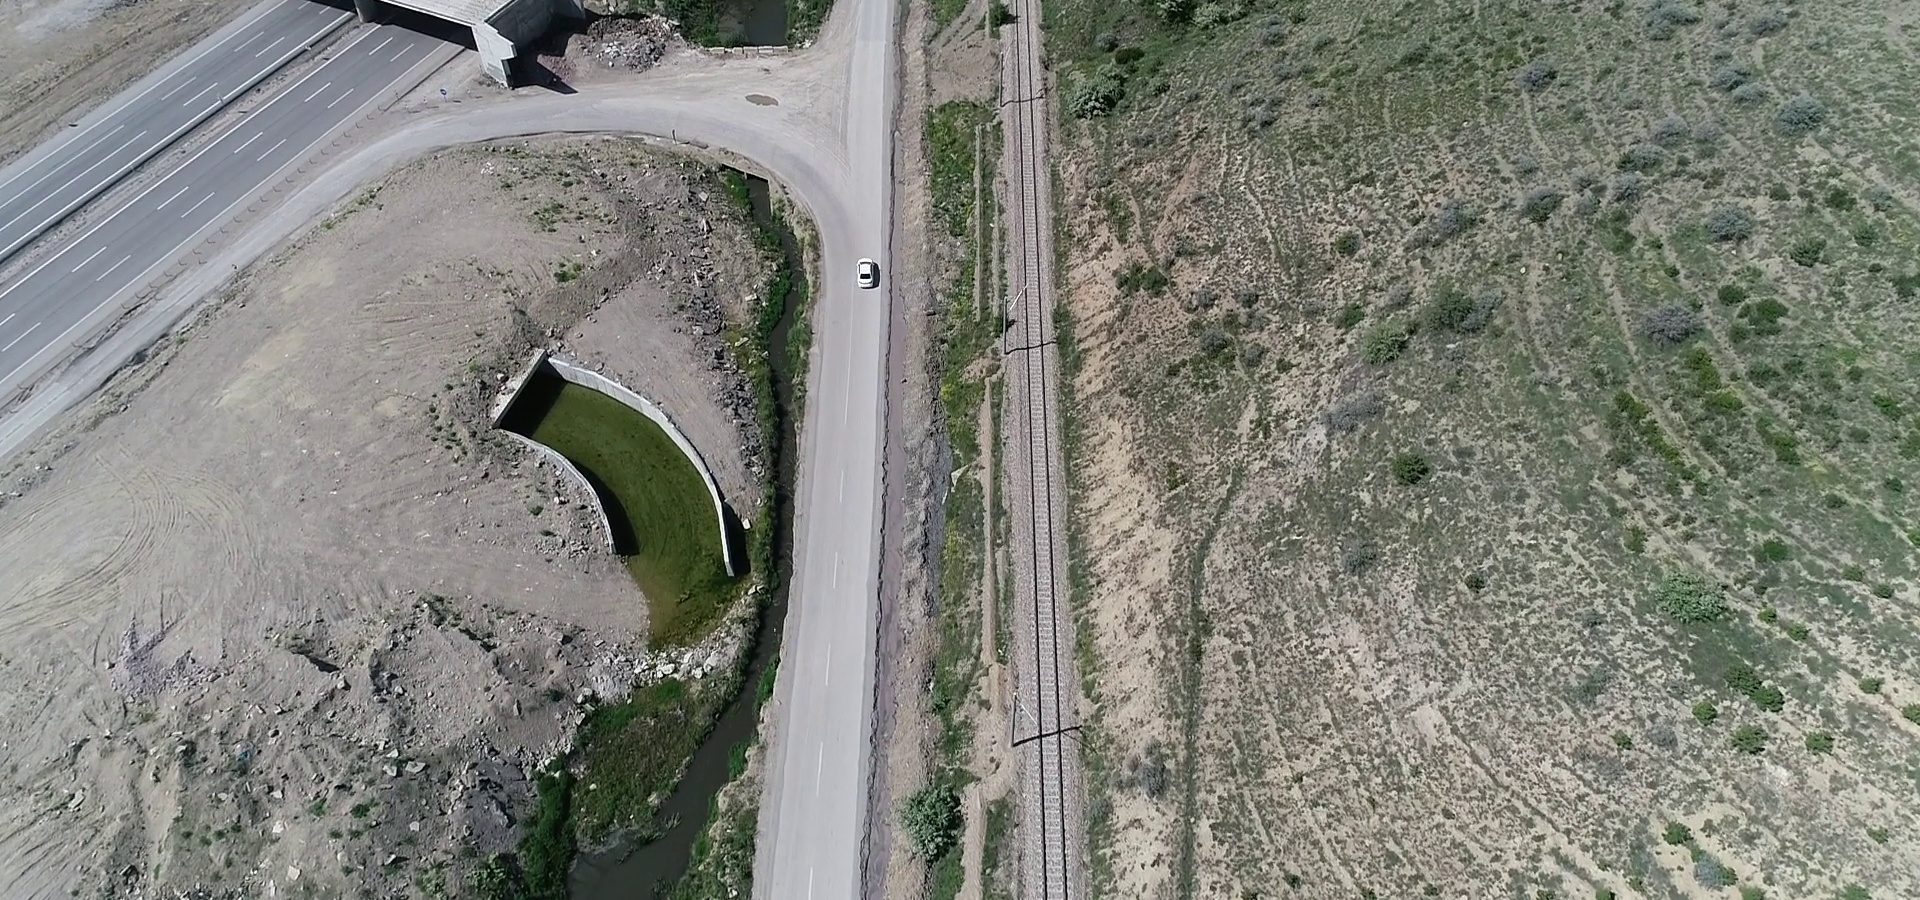arac: (844, 251, 878, 295)
